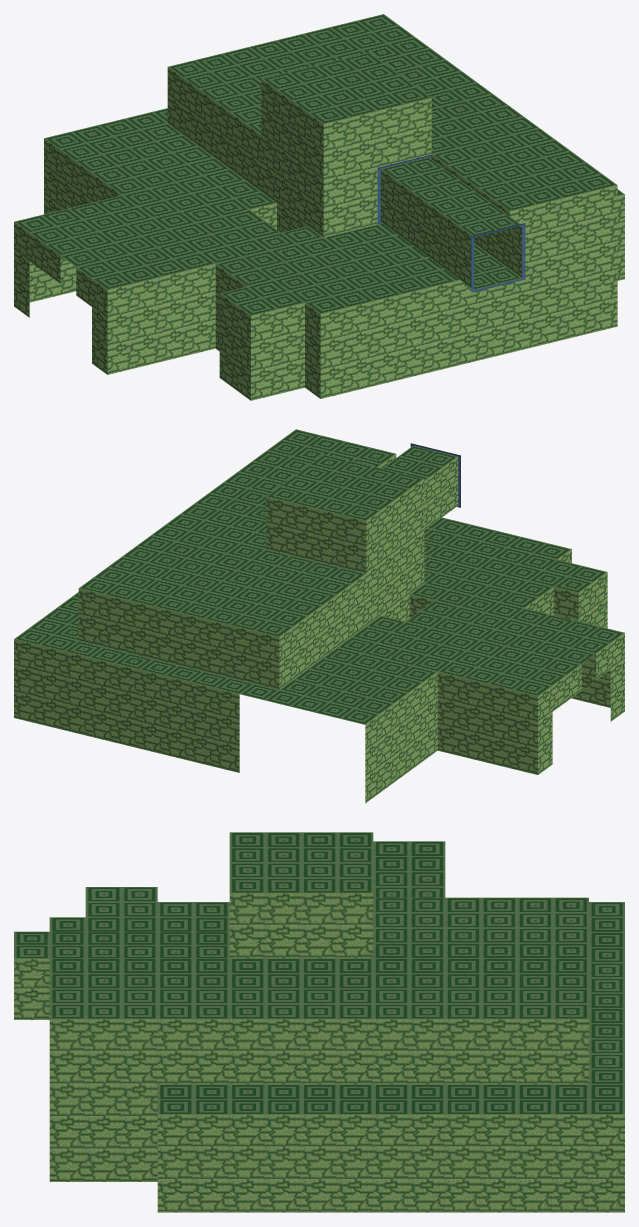
The model's file is geometry-12-room3roof.FBX.
3 renders of one model, top to bottom at view 1: azimuth 30°, elevation 25°; view 2: azimuth 150°, elevation 25°; view 3: azimuth 270°, elevation 25°, orthographic. The views are drawn at different scales.
Parts seen in each view (by area): view 1: room3-roof; view 2: room3-roof; view 3: room3-roof.
Boxes of the visible parts, left/top/right/bottom form: room3-roof: left=14, top=14, right=624, bottom=400; room3-roof: left=14, top=429, right=624, bottom=803; room3-roof: left=14, top=832, right=624, bottom=1212.
Bounding box in the file's own units: 360 × 140 × 340.
1 material, 1 textured.
